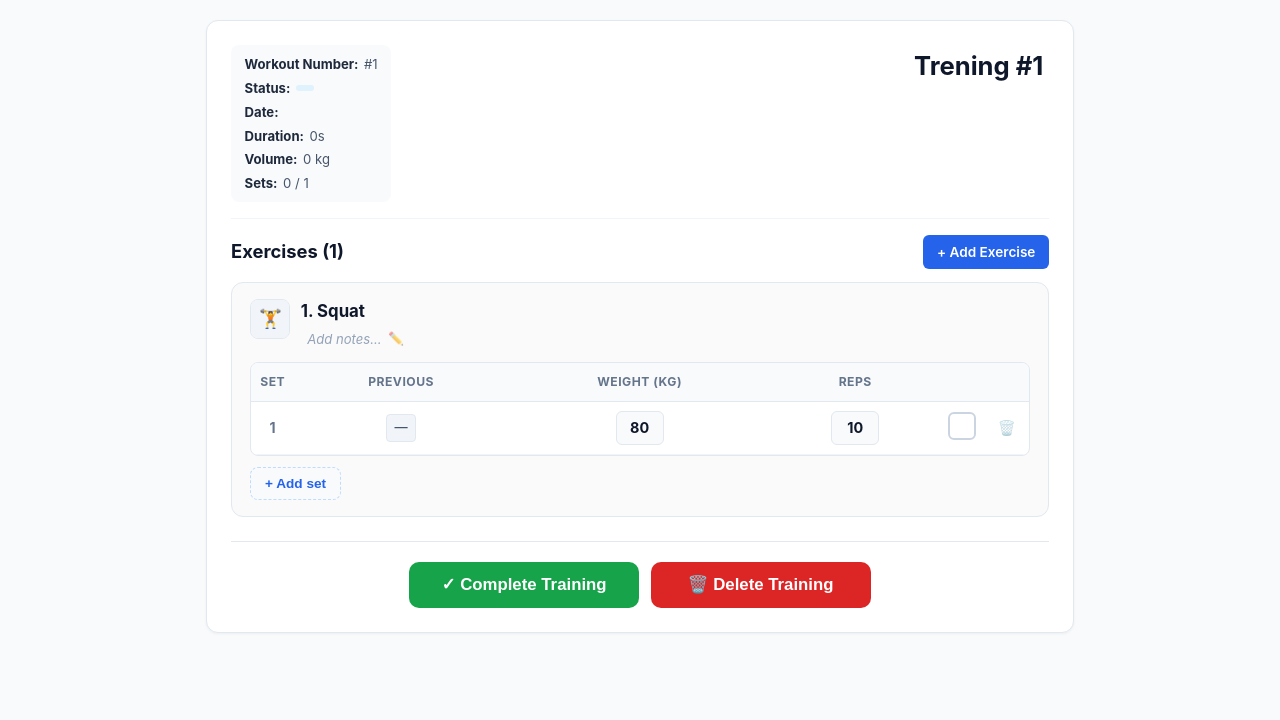
WorkoutDetailComponent › should open confirmation popup when clicking trash icon and cancel when clicking Cancel
The image size is (1280, 720).
Step 1. Click the button with class "btn-delete-set" → (1007, 428), box top-left (994, 417), bottom-right (1020, 439)
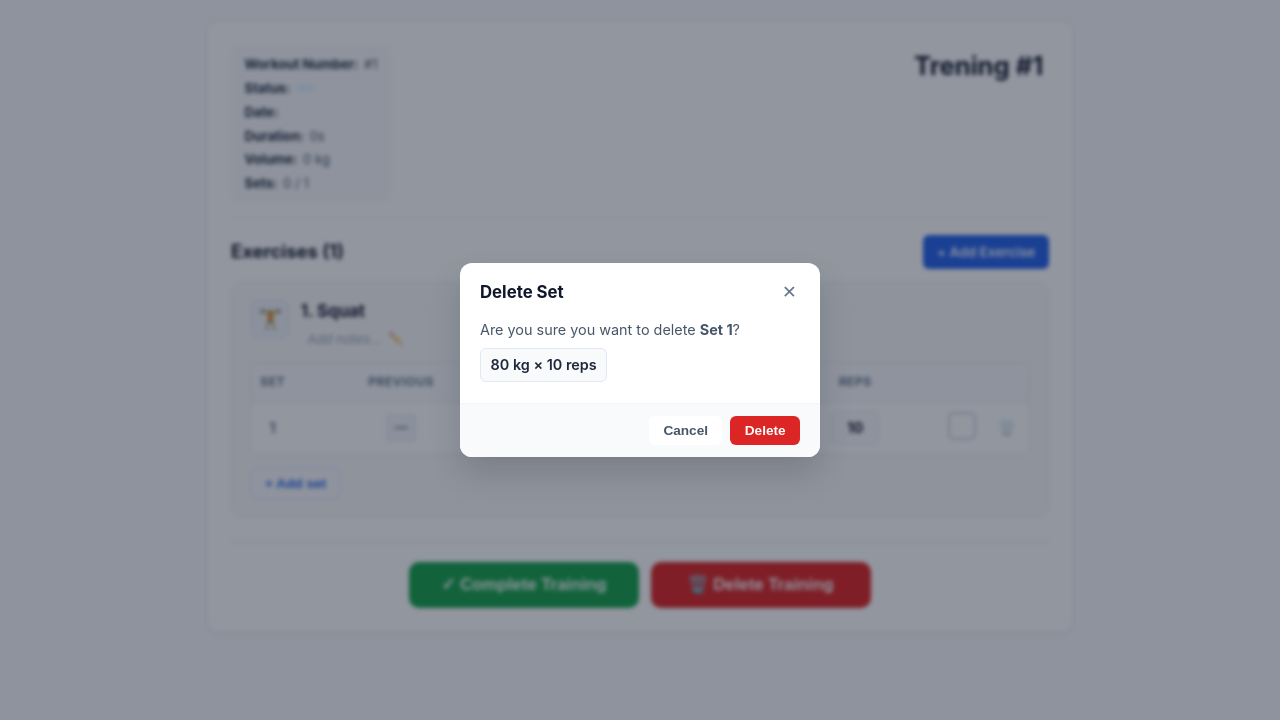
expect the element with class "modal-dialog" shows "Delete Set": met, box top-left (480, 282), bottom-right (564, 302)
expect the element with class "modal-dialog" shows "Are you sure you want to delete Set 1": met, box top-left (460, 262), bottom-right (820, 457)
expect the element with class "modal-dialog" shows "80 kg × 10 reps": met, box top-left (491, 356), bottom-right (597, 373)
Step 2. Click the button with class "btn-modal-cancel" → (686, 431), box top-left (649, 416), bottom-right (722, 446)
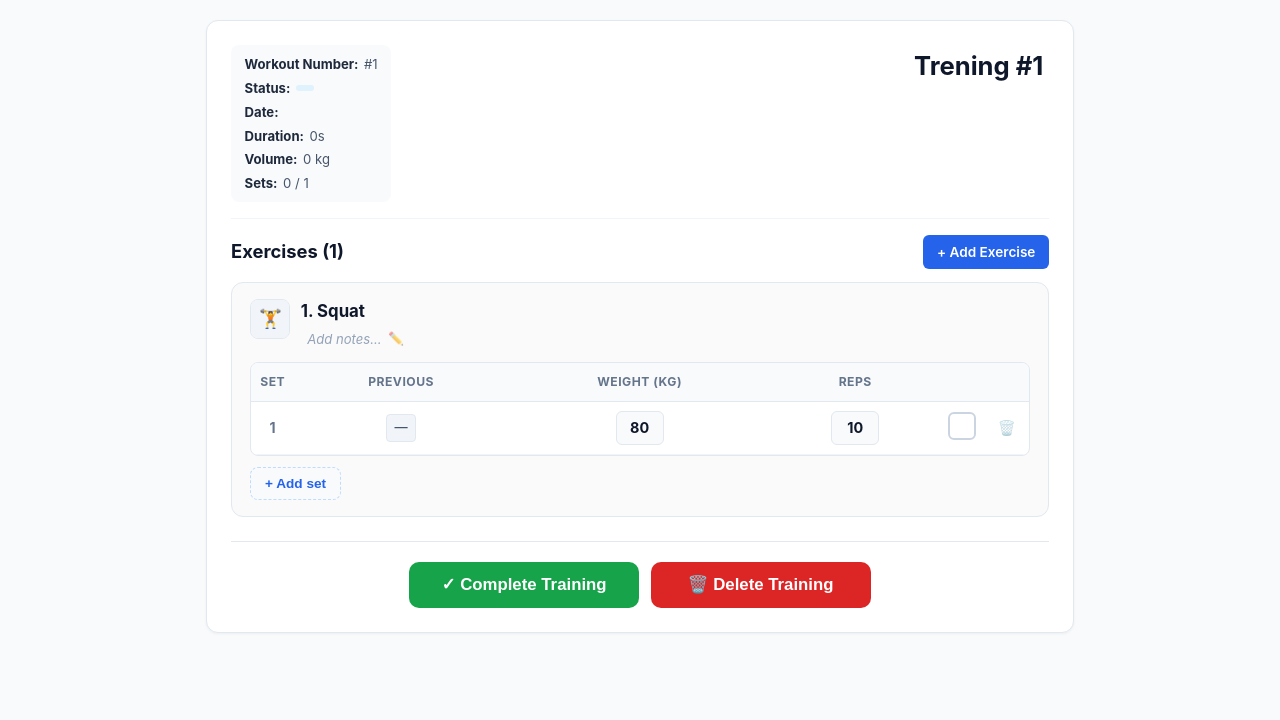
expect the element with class "modal-dialog" is gone: met
